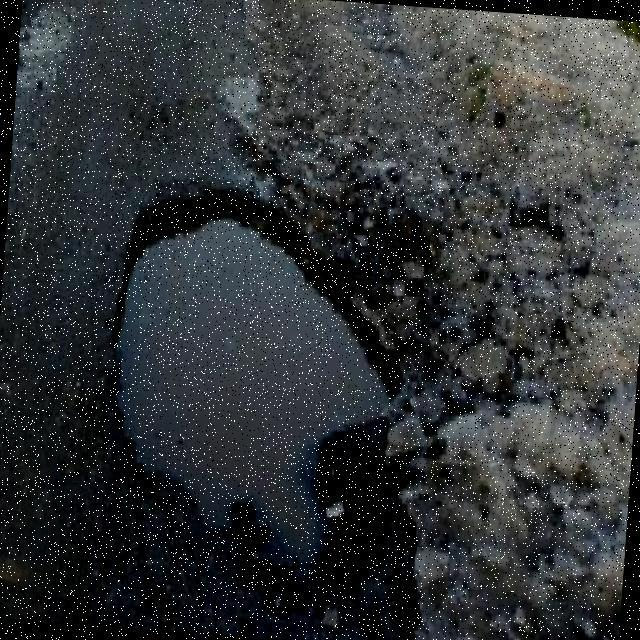Pothole: (110, 193, 402, 569)
